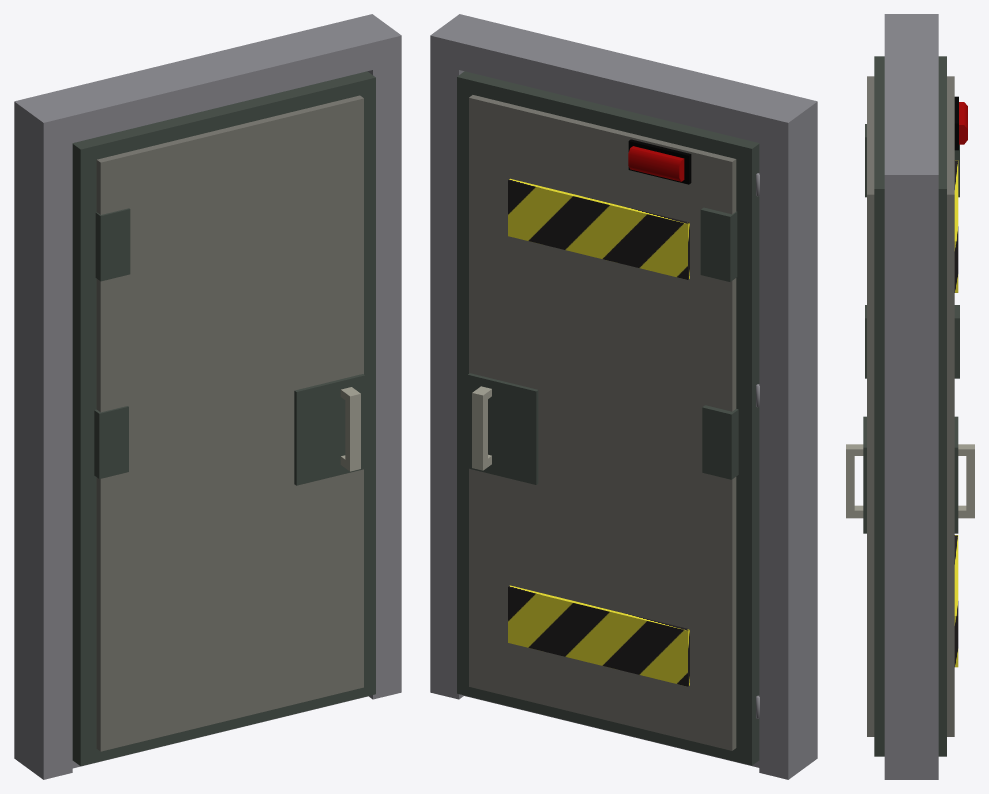
File: puerta de seguridad.fbx
3 renders of one model, left to right at view 1: azimuth 30°, elevation 25°; view 2: azimuth 150°, elevation 25°; view 3: azimuth 270°, elevation 25°, orthographic. The views are drawn at different scales.
Parts seen in each view (by area): view 1: polySurface7, Door_Frame; view 2: polySurface7, Door_Frame; view 3: Door_Frame, polySurface7.
Boxes of the visible parts, left/top/right/bottom form: polySurface7: left=72, top=71, right=375, bottom=765; Door_Frame: left=14, top=14, right=401, bottom=779; polySurface7: left=457, top=71, right=759, bottom=765; Door_Frame: left=430, top=14, right=817, bottom=779; Door_Frame: left=884, top=14, right=938, bottom=779; polySurface7: left=846, top=56, right=974, bottom=756.
Size of the model in its own units: 127 by 222 by 42.94.
Materials: 8 (2 with a texture image).
